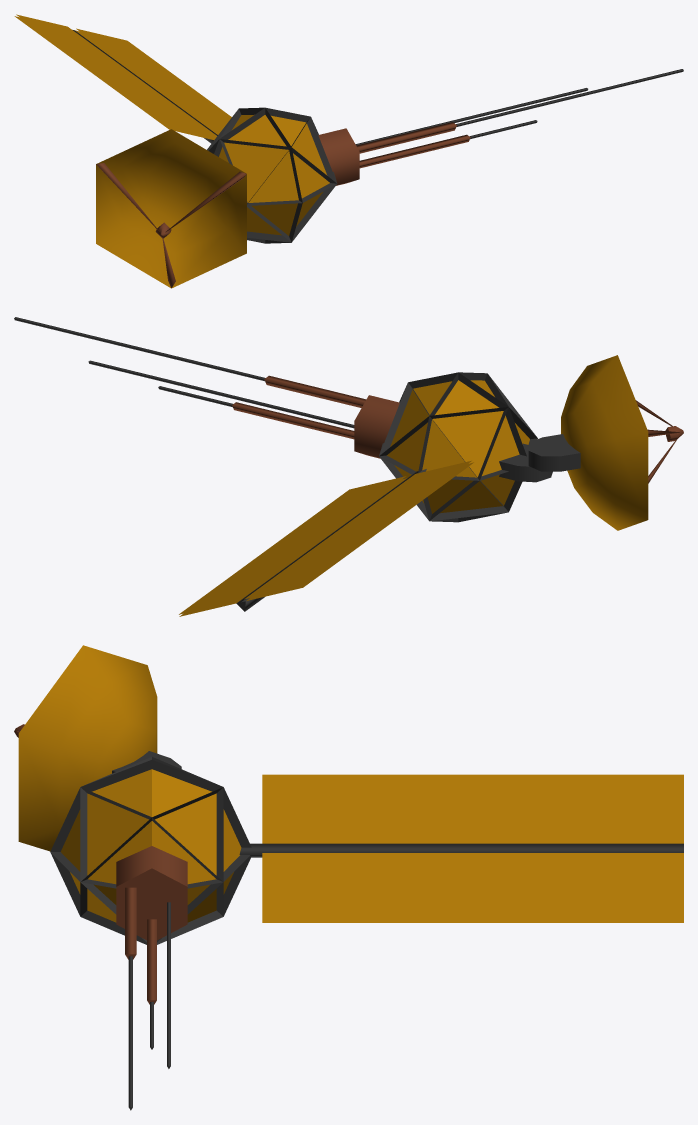
File: Probe-TypeC-Dish.fbx
3 views of the same model, one above another, from view 1: azimuth 30°, elevation 25°; view 2: azimuth 150°, elevation 25°; view 3: azimuth 270°, elevation 25° (orthographic). The views are drawn at different scales.
Parts seen in each view (by area): view 1: pCylinder10; view 2: pCylinder10; view 3: pCylinder10.
Boxes of the visible parts, left/top/right/bottom form: pCylinder10: left=14, top=14, right=683, bottom=288; pCylinder10: left=14, top=317, right=683, bottom=616; pCylinder10: left=14, top=645, right=683, bottom=1110.
Bounding box in the file's own units: 0.7141 × 0.1906 × 0.5257.
